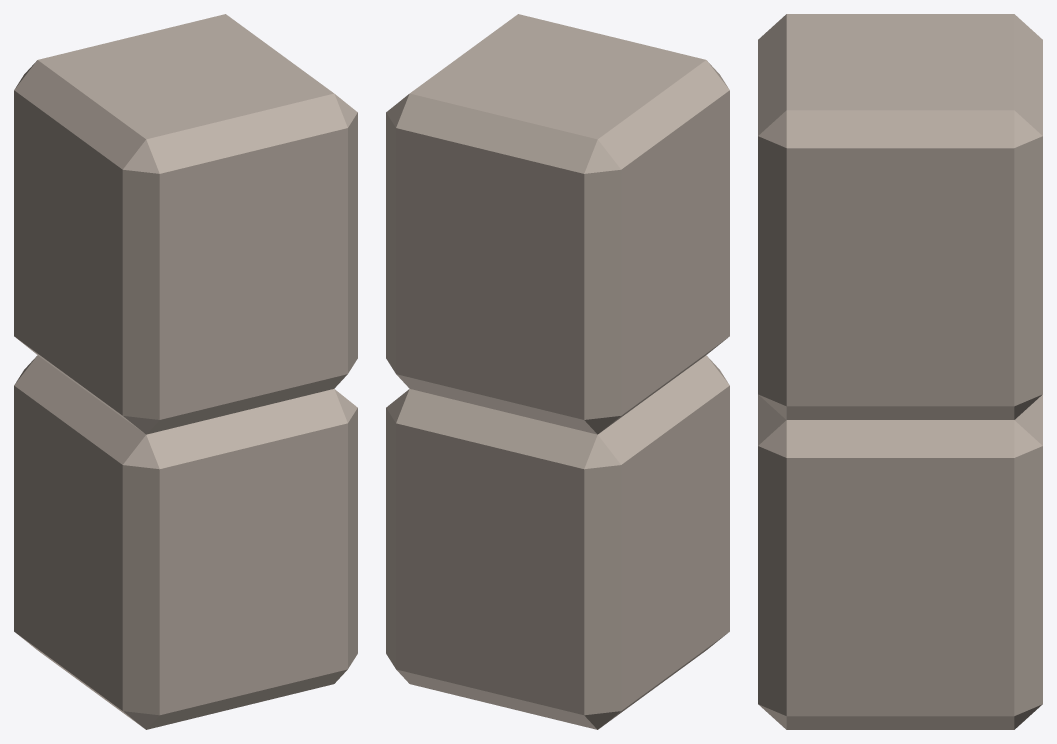
File: Stone_Pillar.glb
The picture shows the model from 3 angles, left to right: view 1: azimuth 30°, elevation 25°; view 2: azimuth 150°, elevation 25°; view 3: azimuth 270°, elevation 25°; orthographic projection. The views are drawn at different scales.
Visible parts, largest first — view 1: object1; view 2: object1; view 3: object1.
Part boxes in pixels (<box>): object1: <box>14,14,357,729</box>; object1: <box>386,14,729,729</box>; object1: <box>758,14,1042,729</box>.
Size of the model in its own units: 0.25 by 0.6 by 0.25.
